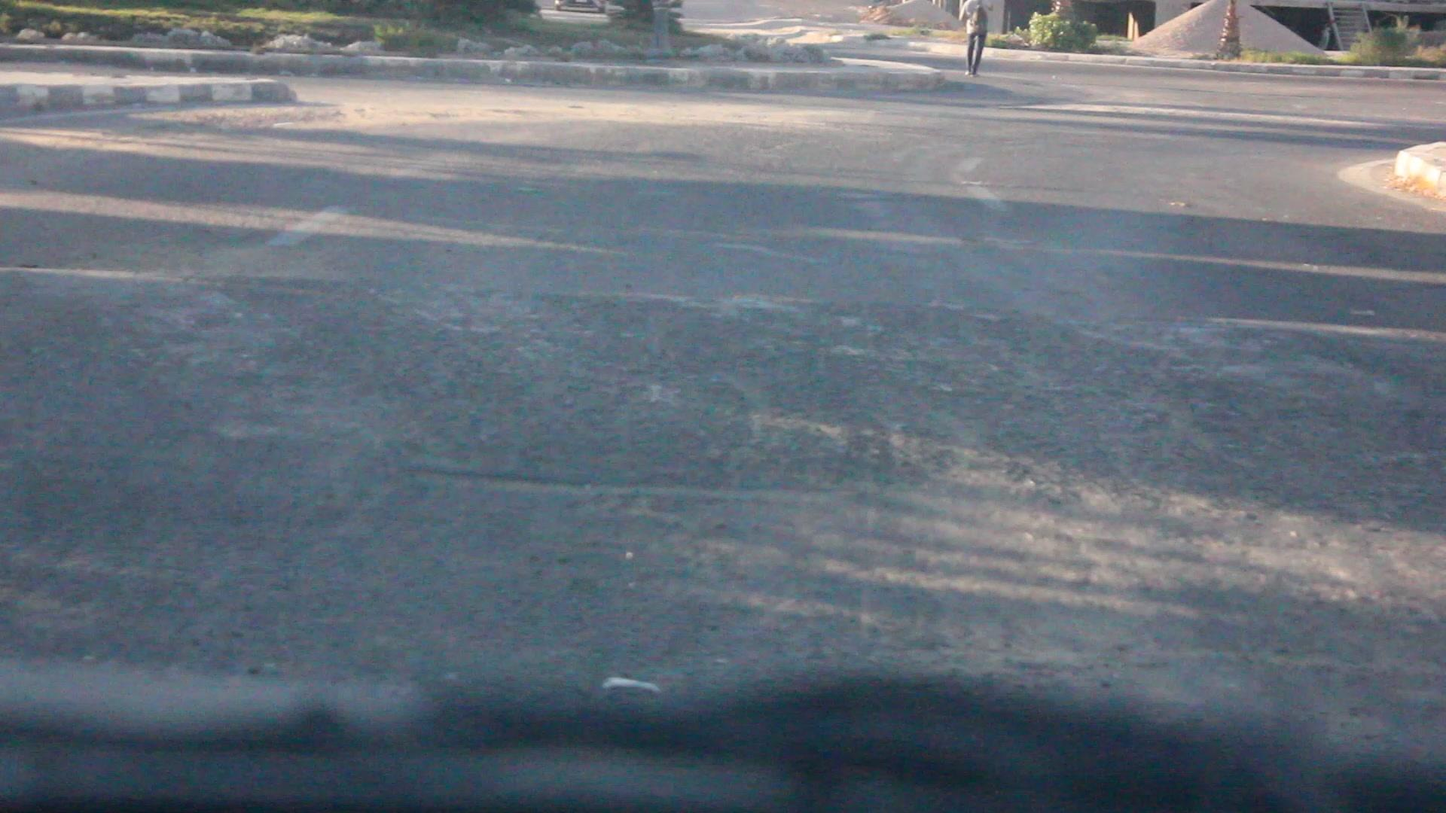Bump: (26, 269, 1446, 585)
